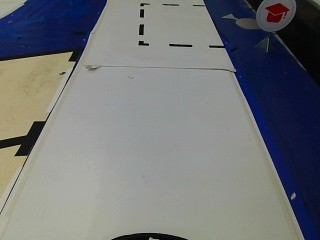school: (255, 0, 298, 31)
